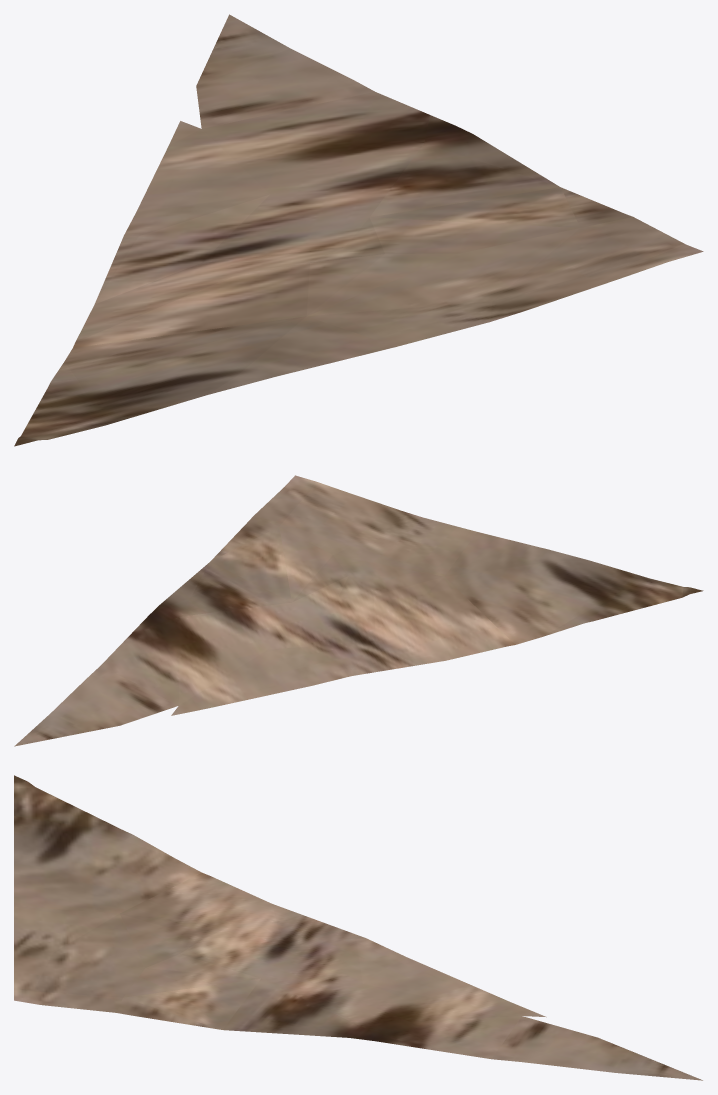
The picture shows the model from 3 angles, top to bottom: view 1: azimuth 30°, elevation 25°; view 2: azimuth 150°, elevation 25°; view 3: azimuth 270°, elevation 25°; orthographic projection. The views are drawn at different scales.
Bounding box in the file's own units: 3.02 × 0.4617 × 3.6.
1 material, 1 textured.
